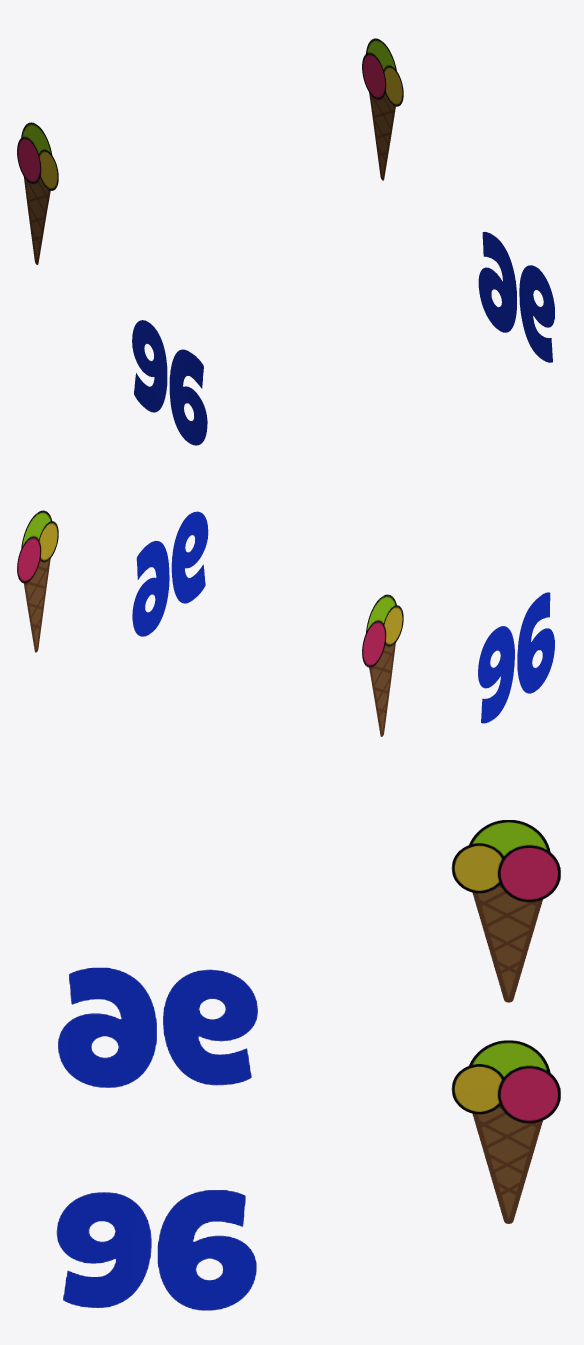
File: Car_07_Decals.fbx
3 renders of one model, top to bottom at view 1: azimuth 30°, elevation 25°; view 2: azimuth 150°, elevation 25°; view 3: azimuth 270°, elevation 25°, orthographic. The views are drawn at different scales.
Visible parts, largest first — view 1: Car_07_Decals; view 2: Car_07_Decals; view 3: Car_07_Decals.
Boxes of the visible parts, x1,y1,x2,y2 form: Car_07_Decals: (17,38,554,445); Car_07_Decals: (17,510,554,736); Car_07_Decals: (56,820,560,1310).
Bounding box in the file's own units: 187 × 197 × 118.
